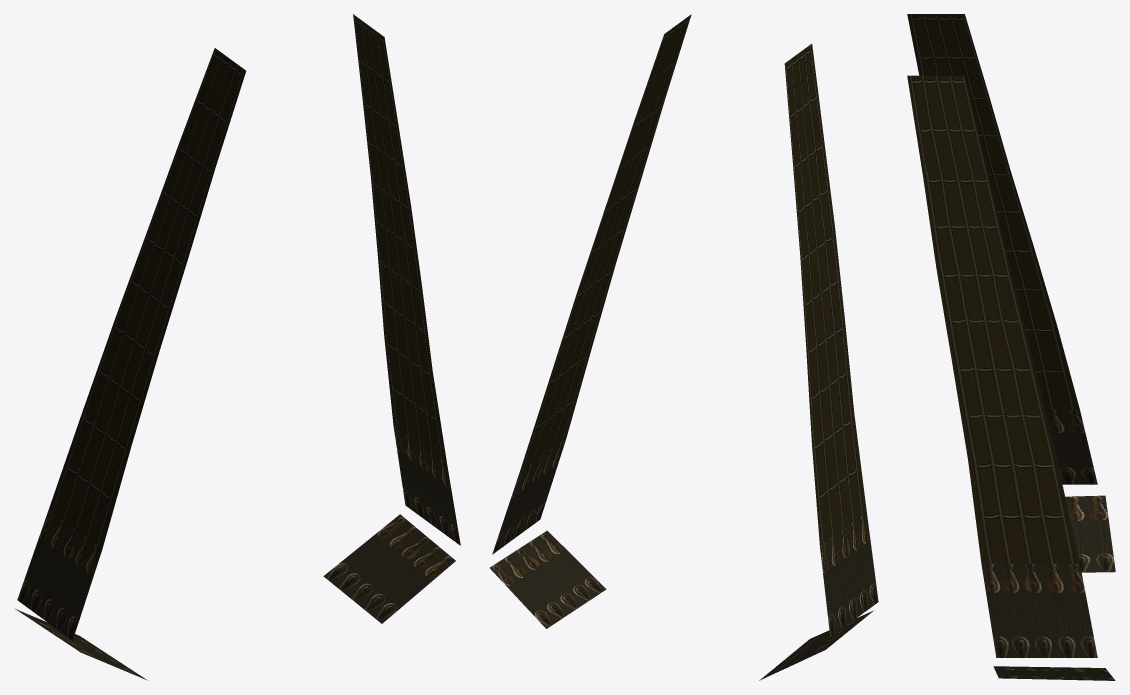
File: warshipL1-rigging_0.fbx
3 renders of one model, left to right at view 1: azimuth 30°, elevation 25°; view 2: azimuth 150°, elevation 25°; view 3: azimuth 270°, elevation 25°, orthographic. The views are drawn at different scales.
Parts seen in each view (by area): view 1: rigging, riggingmount_pulleys4, pullys_1b2, pullys_1b3, riggingmount_pulleys3; view 2: rigging, riggingmount_pulleys4, pullys_1b2, pullys_1b3, riggingmount_pulleys3; view 3: rigging, pullys_1b3, riggingmount_pulleys3, pullys_1b2, riggingmount_pulleys4.
Part boxes in pixels (x1=…): rigging: x1=48, y1=14, x2=447, y2=548; riggingmount_pulleys4: x1=323, y1=514, x2=455, y2=623; pullys_1b2: x1=17, y1=510, x2=102, y2=640; pullys_1b3: x1=393, y1=426, x2=460, y2=545; riggingmount_pulleys3: x1=15, y1=609, x2=147, y2=680; rigging: x1=519, y1=14, x2=866, y2=545; riggingmount_pulleys4: x1=489, y1=530, x2=606, y2=628; pullys_1b2: x1=820, y1=512, x2=878, y2=636; pullys_1b3: x1=492, y1=439, x2=565, y2=554; riggingmount_pulleys3: x1=759, y1=611, x2=872, y2=680; rigging: x1=907, y1=14, x2=1079, y2=563; pullys_1b3: x1=981, y1=564, x2=1097, y2=657; riggingmount_pulleys3: x1=1065, y1=495, x2=1115, y2=572; pullys_1b2: x1=1045, y1=410, x2=1097, y2=484; riggingmount_pulleys4: x1=993, y1=666, x2=1115, y2=680.
Bounding box in the file's own units: 4412 × 6902 × 2244.
1 material, 1 textured.
